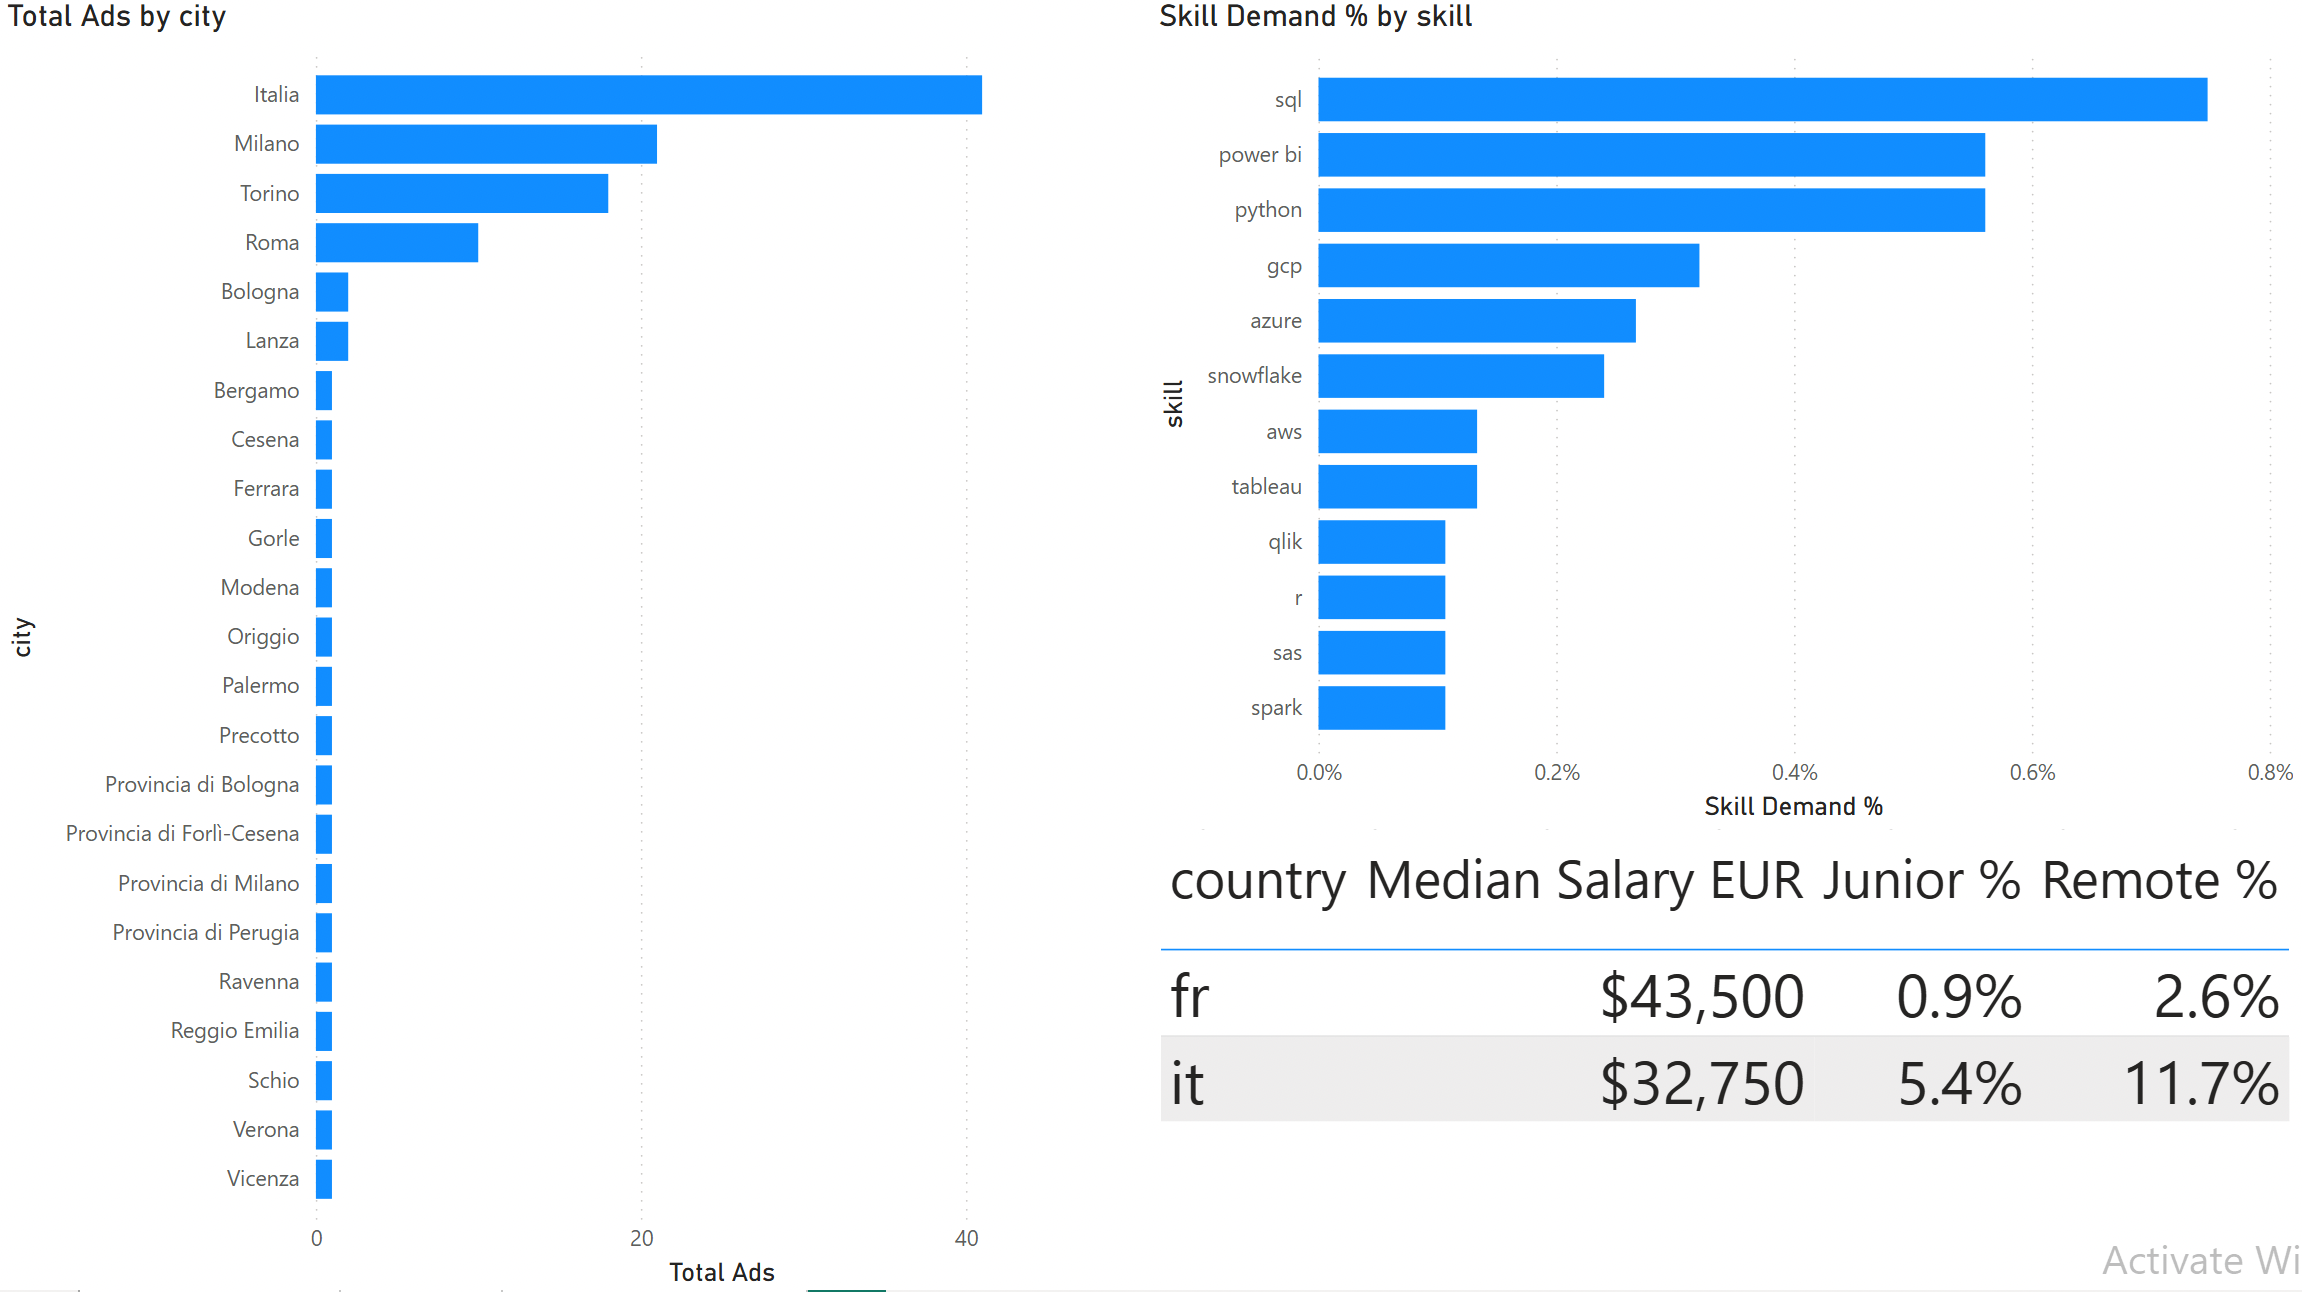

What the dashboard file says about the page in this screenshot:
{"tool":"powerbi","page":{"name":"Focus: Italy & France","canvas":[1280,720],"ordinal":2},"visuals":[{"type":"clusteredBarChart","fields":{"Y":["pbi_jobs.Total Ads"],"Category":["pbi_jobs.city"]},"box":[0,0,640,720.8],"z":0},{"type":"clusteredBarChart","fields":{"Category":["pbi_skills_long.skill"],"Y":["pbi_skills_long.Skill Demand %"]},"box":[640,0,640,461.7],"z":1},{"type":"tableEx","fields":{"Values":["pbi_jobs.country","pbi_jobs.Median Salary EUR","pbi_jobs.Junior %","pbi_jobs.Remote %"]},"box":[640,461.7,640,259],"z":2}]}

Visuals, with their boxes in screenshot pixels (x1, y1, x2, y2), scaled from the page's 1280x720 canvas onto the 2302x1292 screenshot:
clusteredBarChart - pbi_jobs.Total Ads x pbi_jobs.city: (left=0, top=0, right=1151, bottom=1291)
clusteredBarChart - pbi_skills_long.skill x pbi_skills_long.Skill Demand %: (left=1151, top=0, right=2301, bottom=828)
tableEx - pbi_jobs.country x pbi_jobs.Median Salary EUR: (left=1151, top=828, right=2301, bottom=1291)
